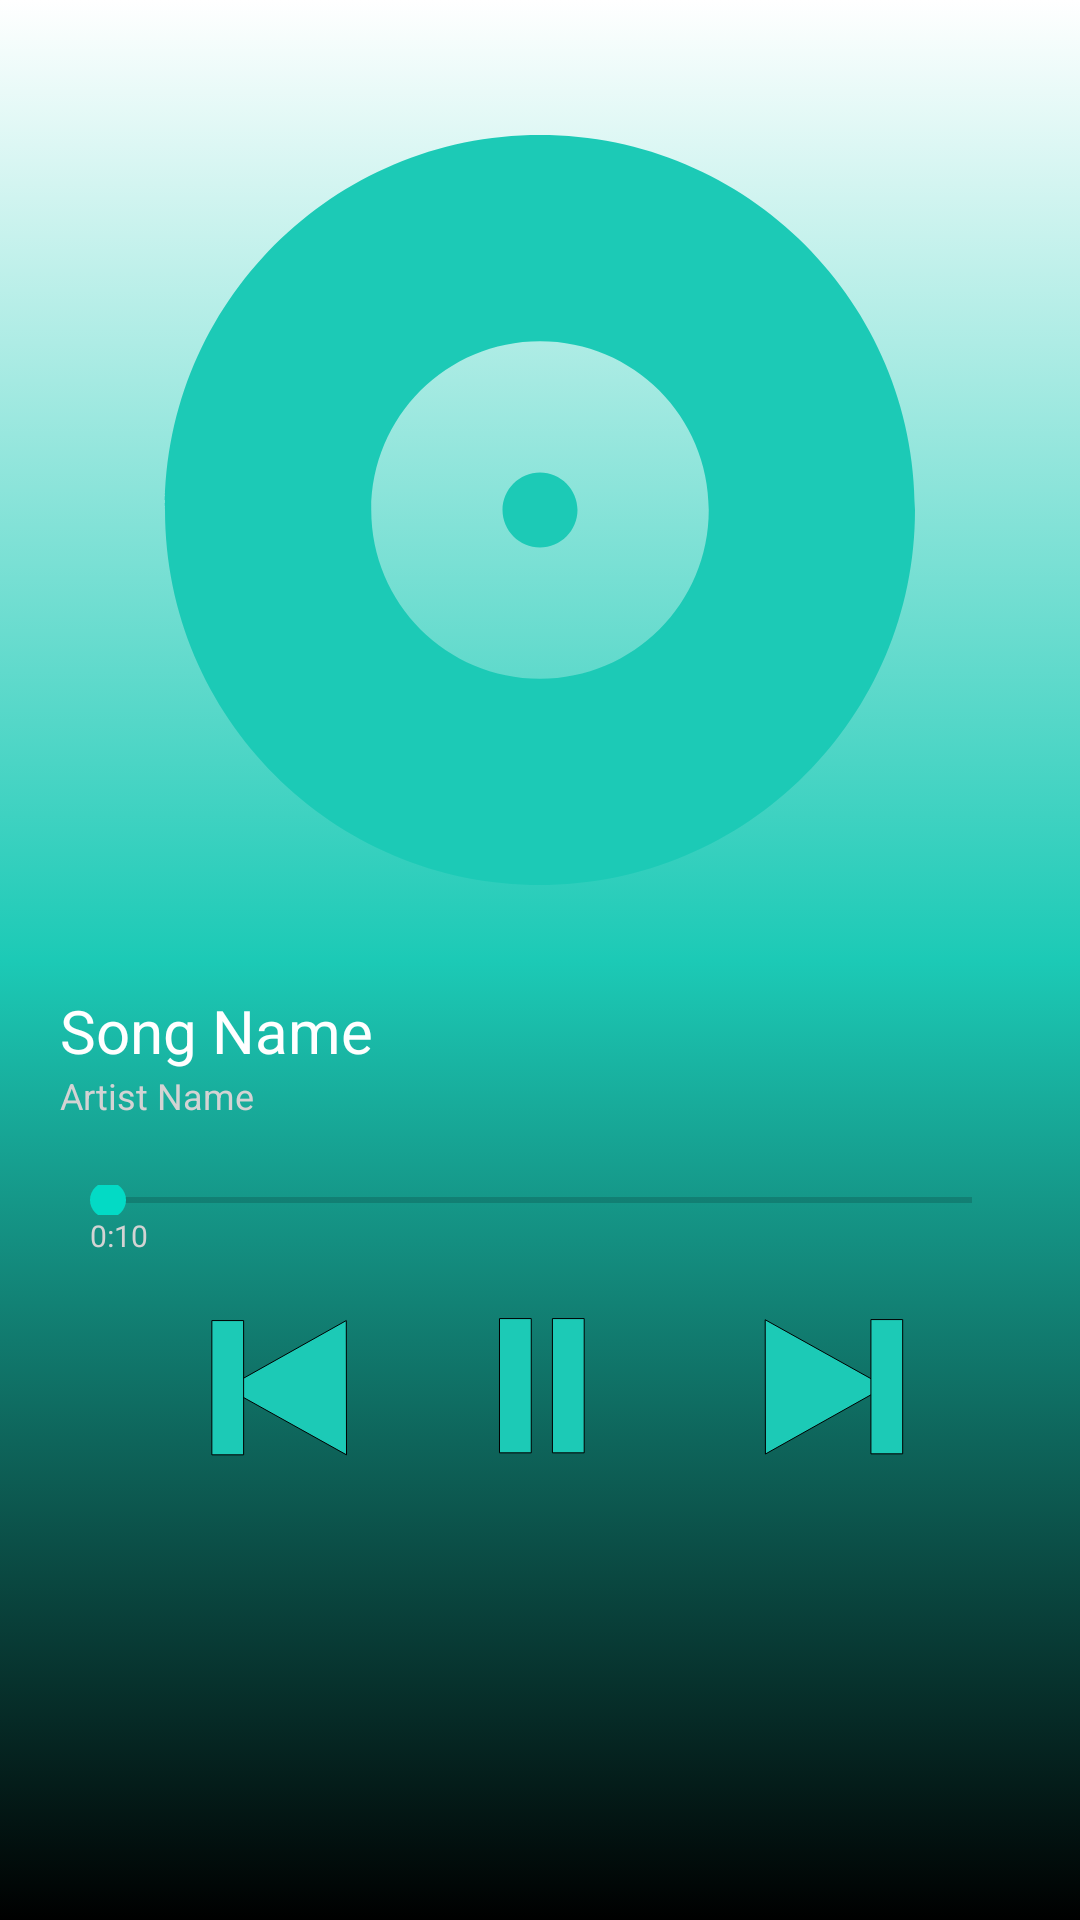

Point at icon controls on the screen. Image size 1080x1920, points as point (x, y).
back: point (271, 1398)
forward: point (810, 1397)
